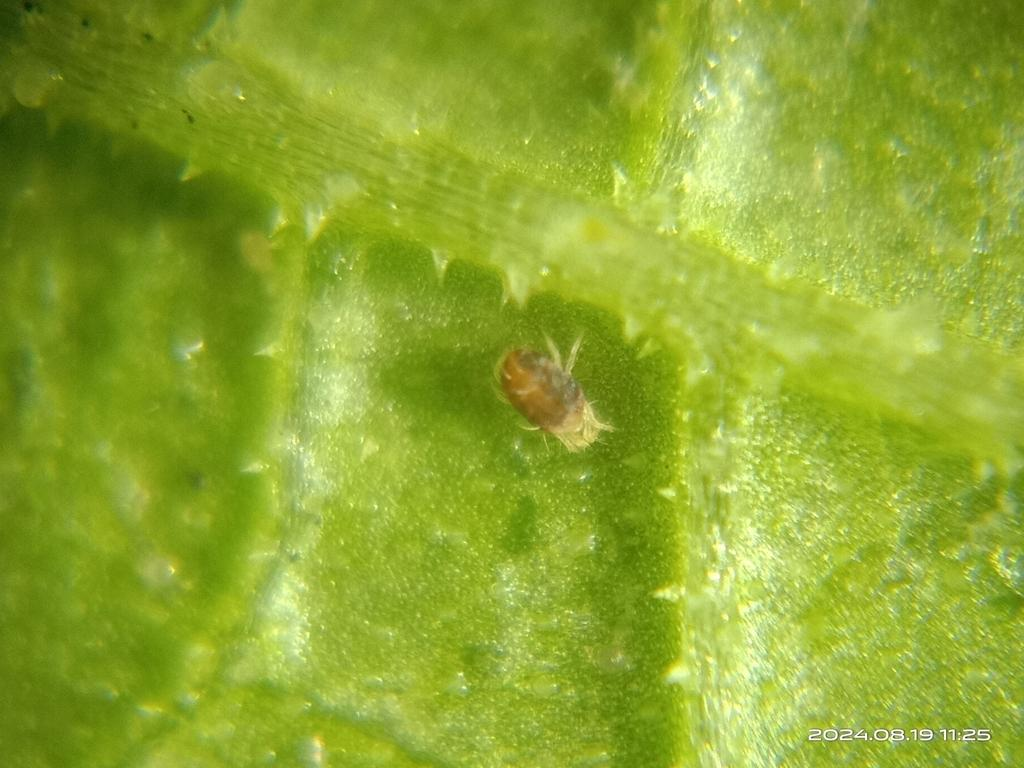tiny_pests: (447, 290, 630, 490)
